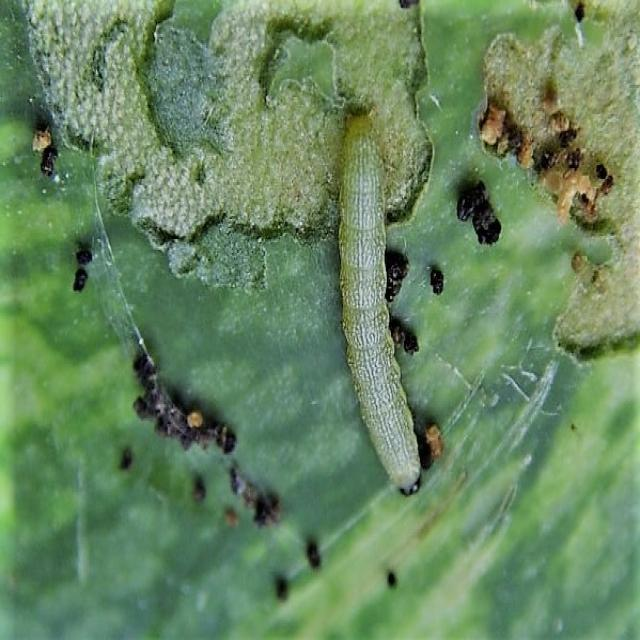armyworm: (336, 110, 422, 495)
